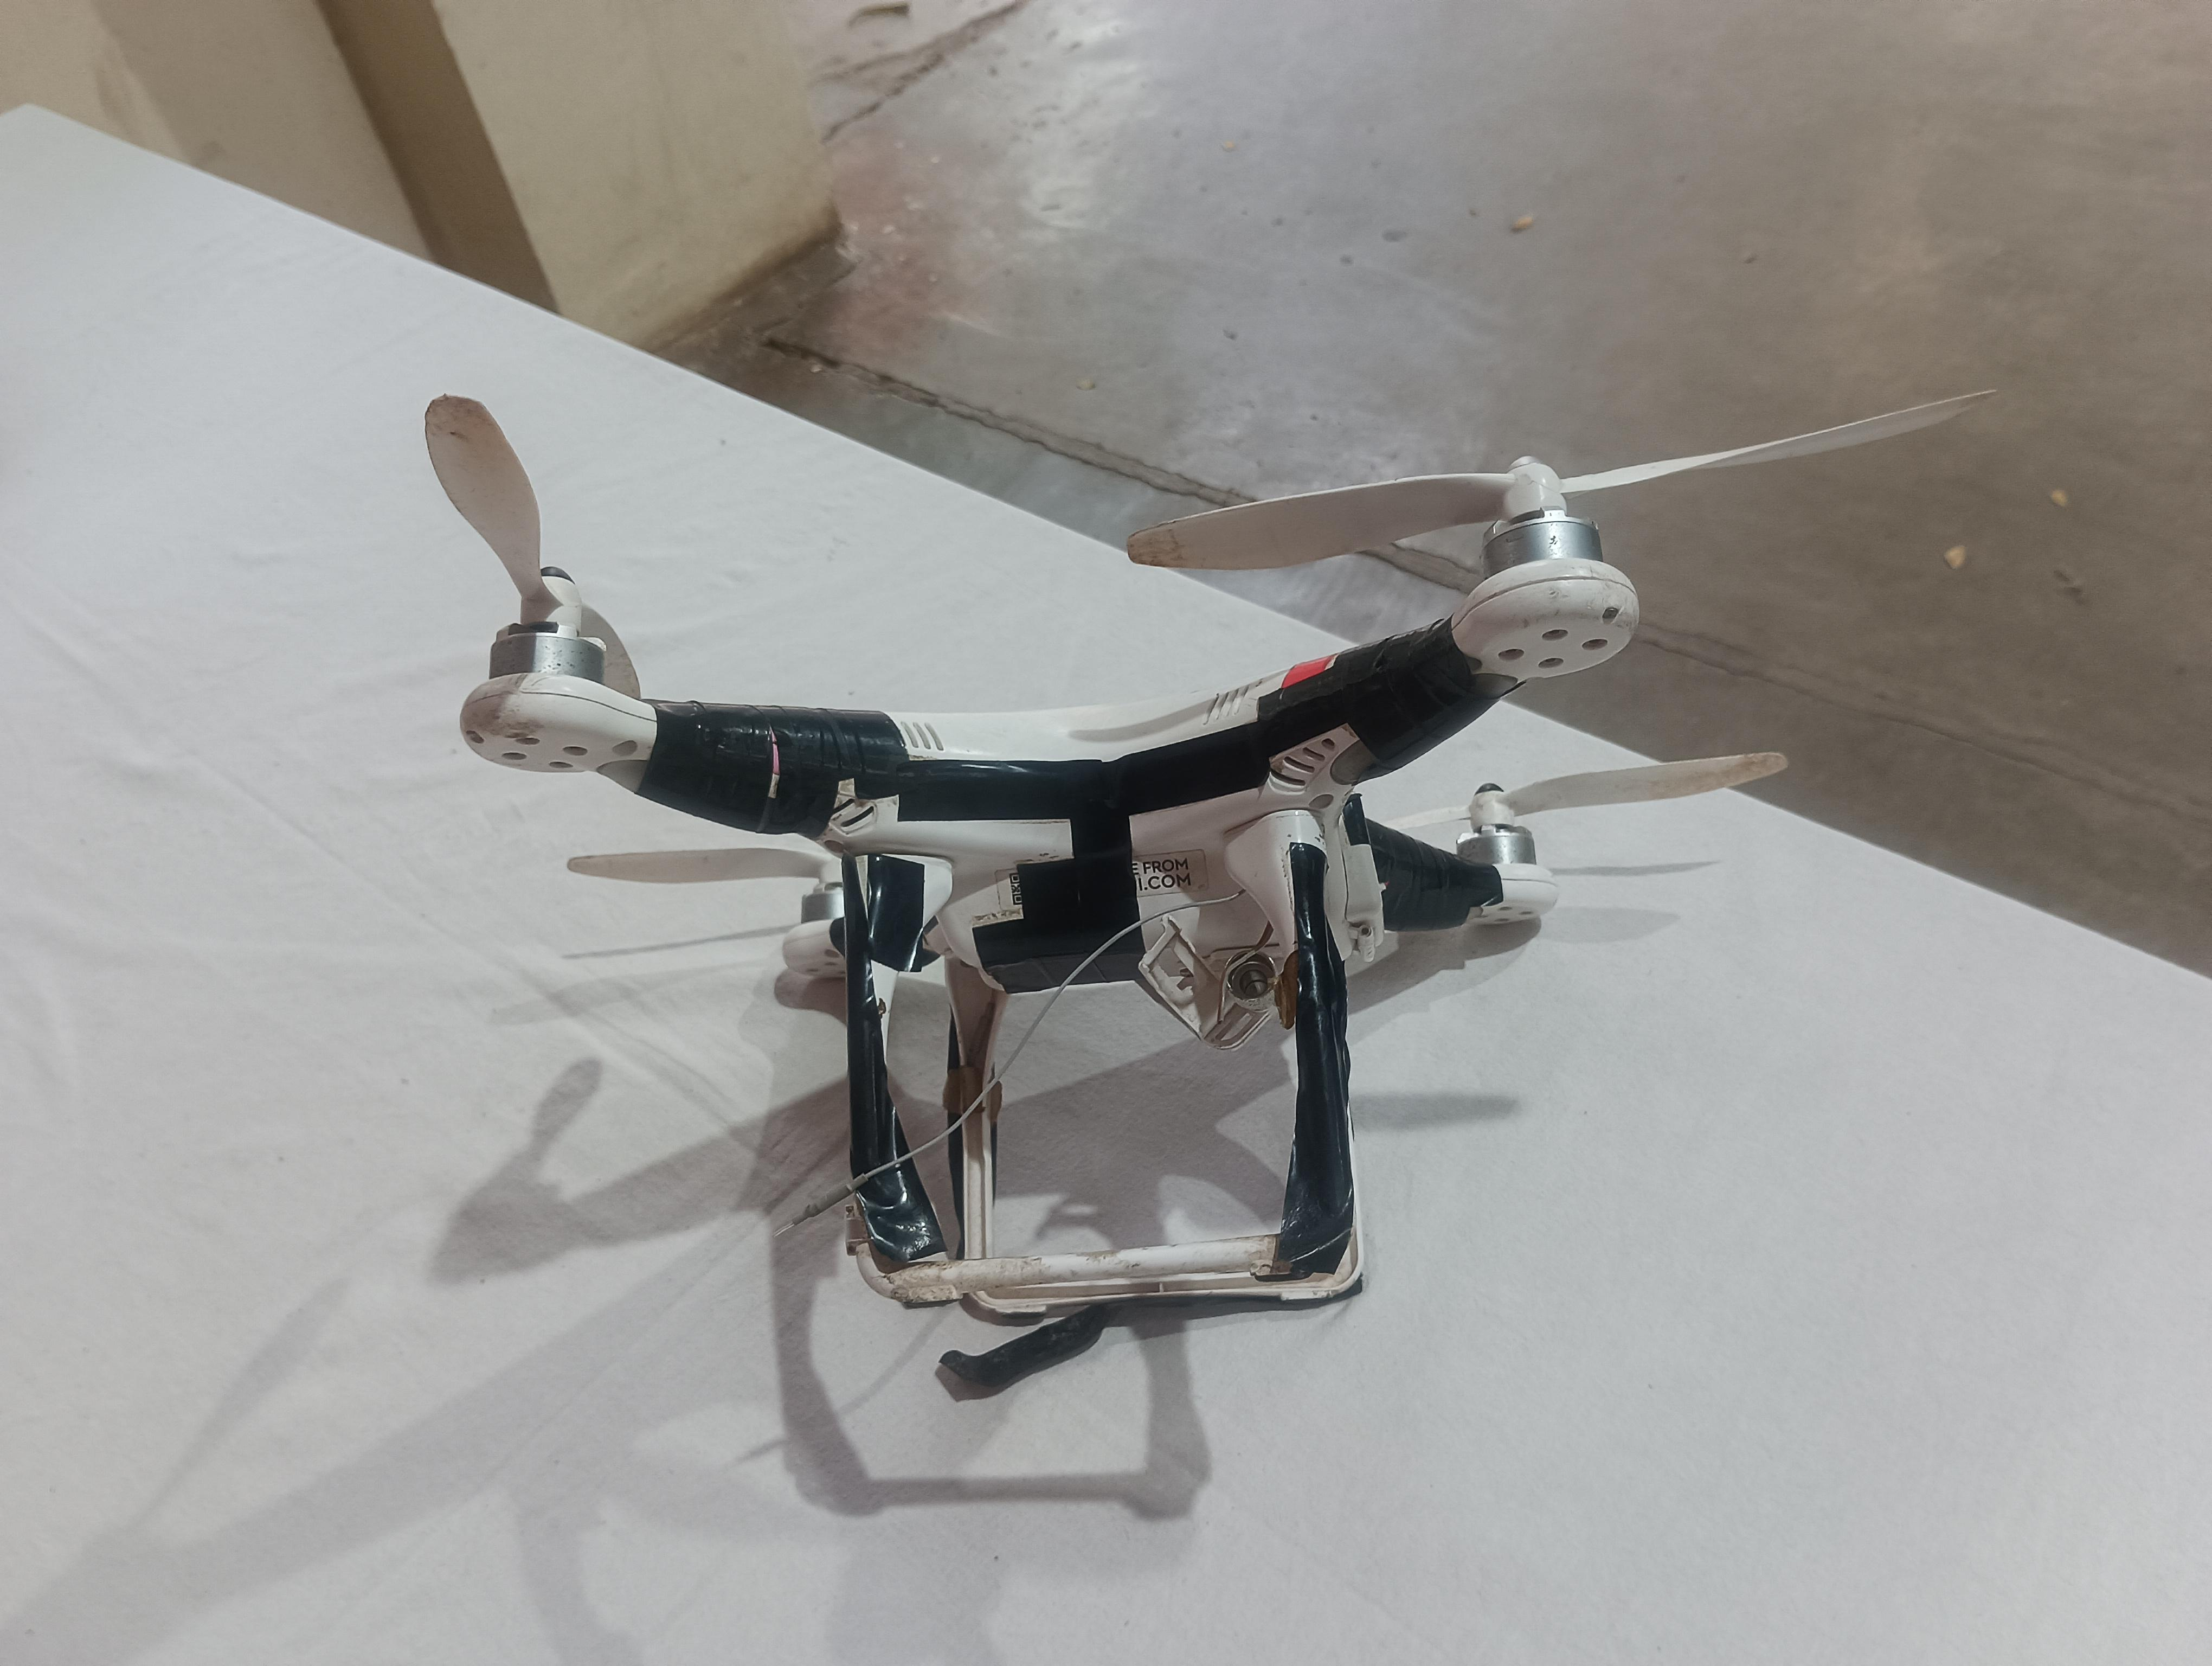drone: (406, 373, 1679, 1339)
